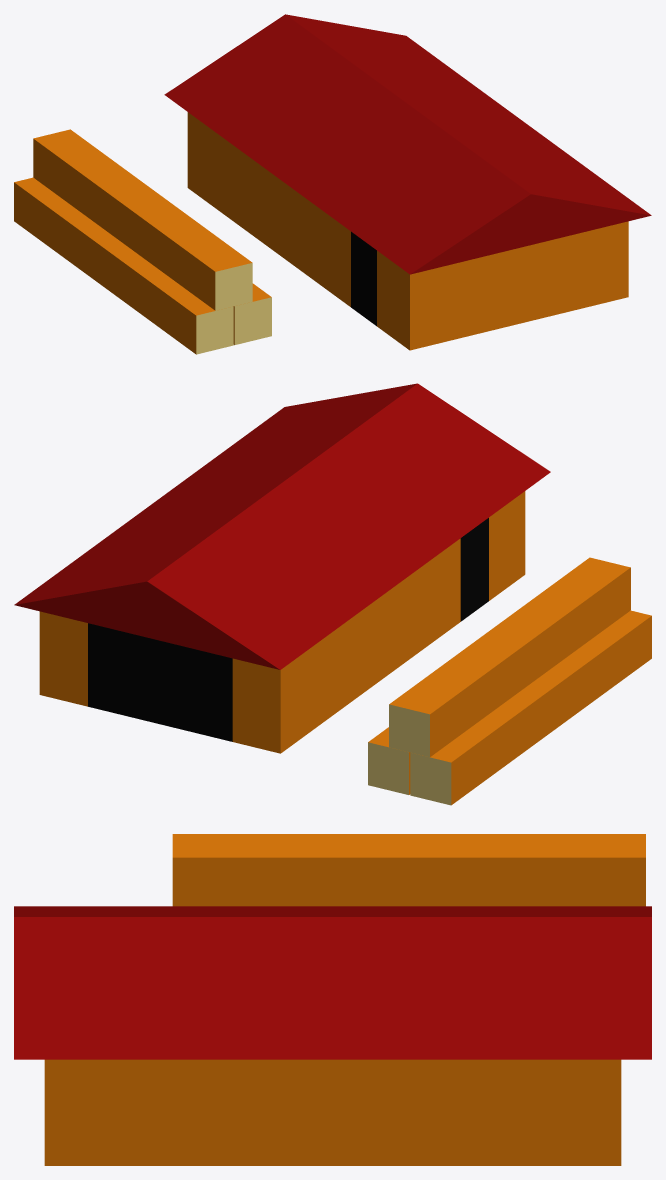
The model's file is Lumber mill.glb.
The picture shows the model from 3 angles, top to bottom: view 1: azimuth 30°, elevation 25°; view 2: azimuth 150°, elevation 25°; view 3: azimuth 270°, elevation 25°; orthographic projection. The views are drawn at different scales.
Parts seen in each view (by area): view 1: Lumber Mill; view 2: Lumber Mill; view 3: Lumber Mill.
Part boxes in pixels (x1=…): Lumber Mill: x1=14, y1=14, x2=651, y2=354; Lumber Mill: x1=14, y1=383, x2=651, y2=805; Lumber Mill: x1=14, y1=834, x2=651, y2=1165.
Bounding box in the file's own units: 1.43 × 0.4779 × 1.54.
